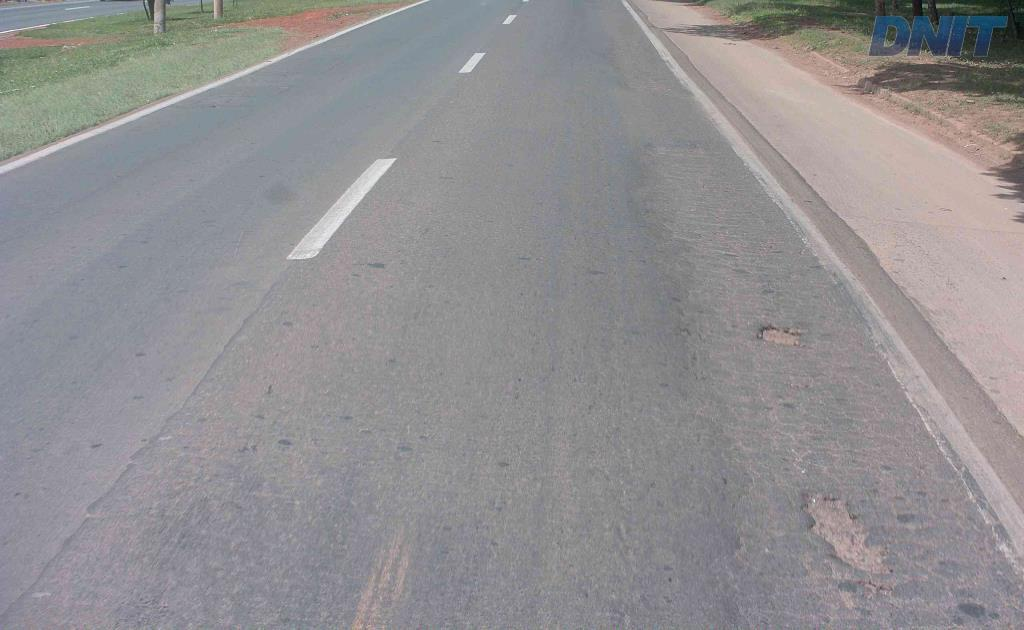pothole: (794, 486, 898, 576), (753, 318, 812, 352)
